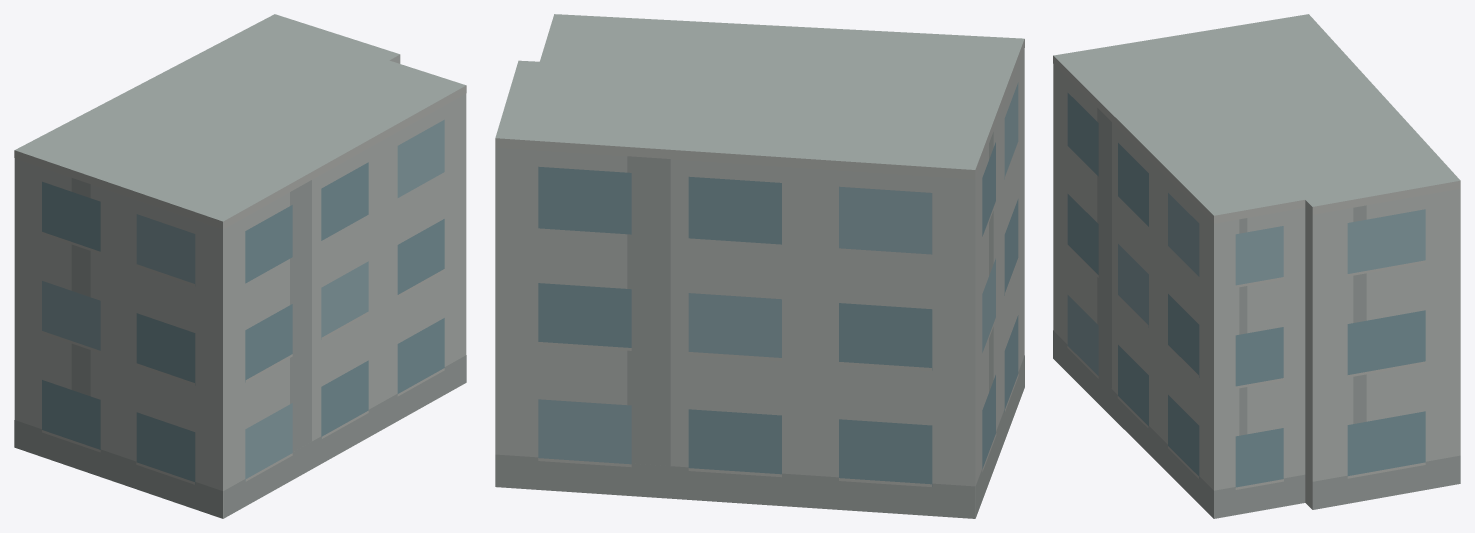
File: residential-03b1d3bc-1b24-471b-aa1a-6302e87cf232.glb
3 views of the same model, side by side, from view 1: azimuth 30°, elevation 25°; view 2: azimuth 150°, elevation 25°; view 3: azimuth 270°, elevation 25° (orthographic). The views are drawn at different scales.
Parts seen in each view (by area): view 1: residential-03b1d3bc-1b24-471b-aa1a-6302e87cf232.tmp; view 2: residential-03b1d3bc-1b24-471b-aa1a-6302e87cf232.tmp; view 3: residential-03b1d3bc-1b24-471b-aa1a-6302e87cf232.tmp.
Boxes of the visible parts, bbox=[...] form: residential-03b1d3bc-1b24-471b-aa1a-6302e87cf232.tmp: bbox=[14, 14, 466, 518]; residential-03b1d3bc-1b24-471b-aa1a-6302e87cf232.tmp: bbox=[495, 14, 1024, 518]; residential-03b1d3bc-1b24-471b-aa1a-6302e87cf232.tmp: bbox=[1053, 14, 1460, 518].
Size of the model in its own units: 13.07 by 9.15 by 11.15.
